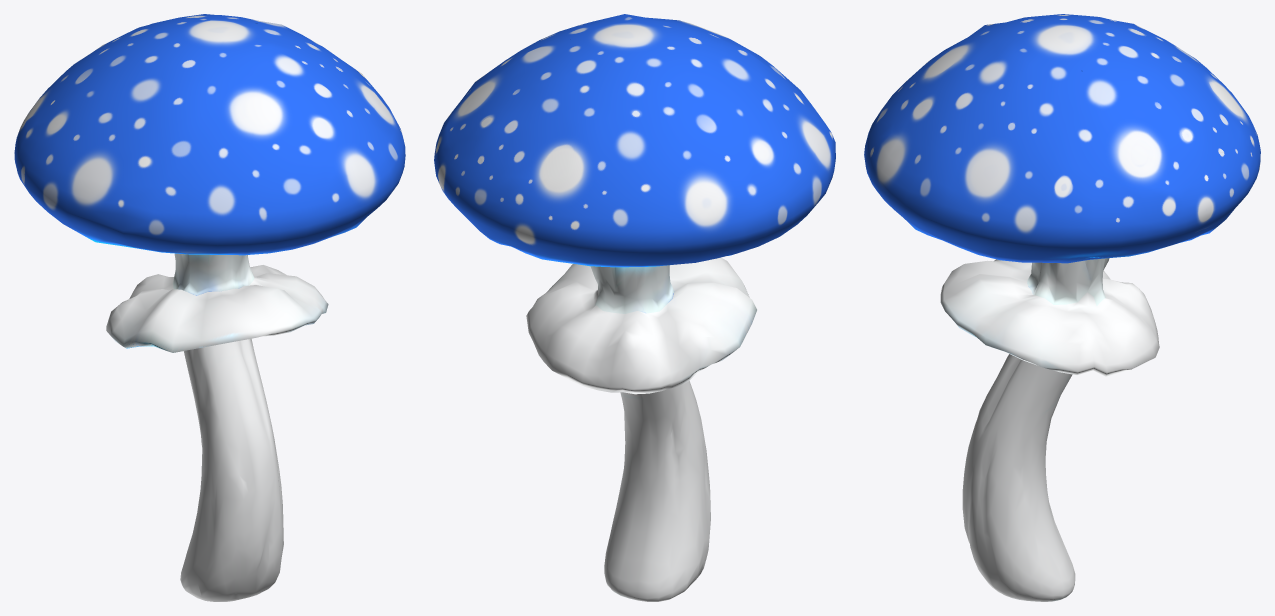
Rendered from shroom.gltf.
3 views of the same model, side by side, from view 1: azimuth 30°, elevation 25°; view 2: azimuth 150°, elevation 25°; view 3: azimuth 270°, elevation 25° (orthographic). The views are drawn at different scales.
Visible parts, largest first — view 1: pCube1; view 2: pCube1; view 3: pCube1.
Boxes of the visible parts, x1,y1,x2,y2 form: pCube1: [14, 14, 405, 601]; pCube1: [434, 14, 835, 601]; pCube1: [864, 14, 1260, 601].
Size of the model in its own units: 2.04 by 3.17 by 2.04.
Materials: 1 (1 with a texture image).
